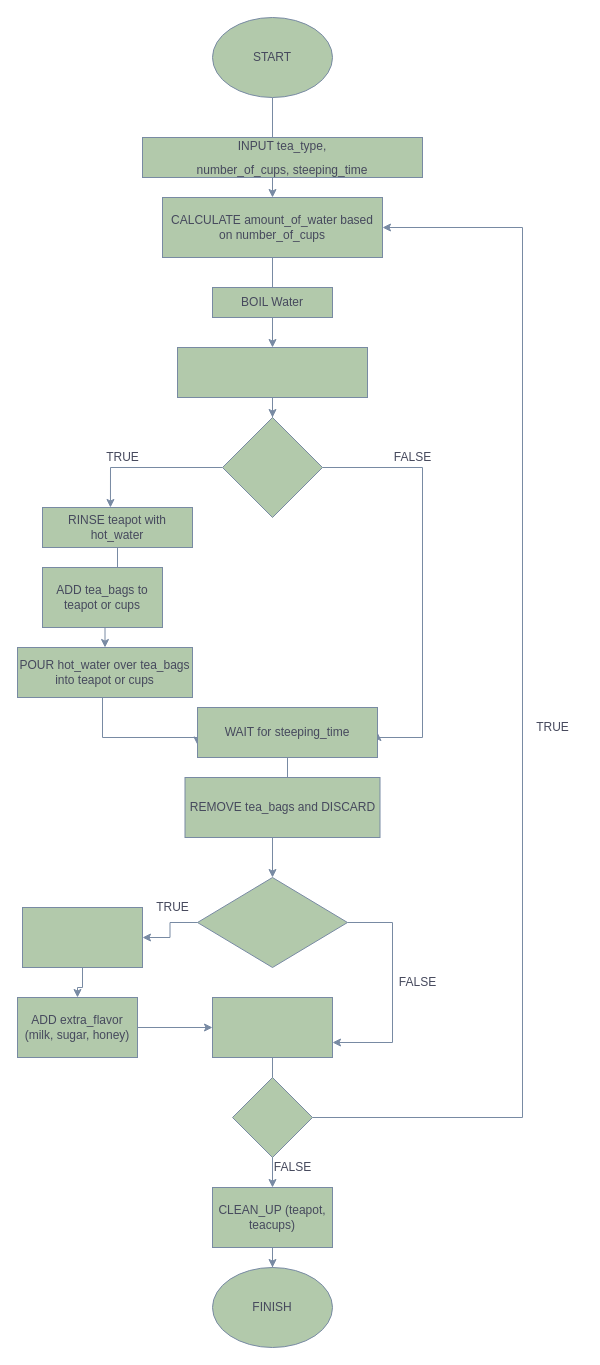
The diagram is 600 pixels wide and 1365 high, and some of its shapes have lost their labels. The shapes that lost their labels are listed below. From the top down, each one's centre as x and y in pixels, then its label:
the point at 272,372: GATHER materials (tea_bags, teacups, teapot)
the point at 272,467: IF using_teapot
the point at 82,937: POUR tea into teacups
the point at 272,922: IF using-teapot
the point at 272,1027: ENJOY tea
the point at 272,1117: IF more_cups desired
